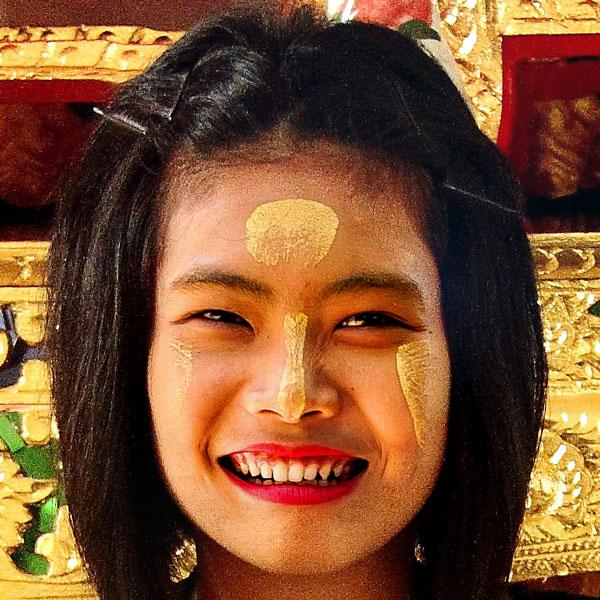Eyes: (169, 290, 260, 346), (323, 295, 424, 345)
